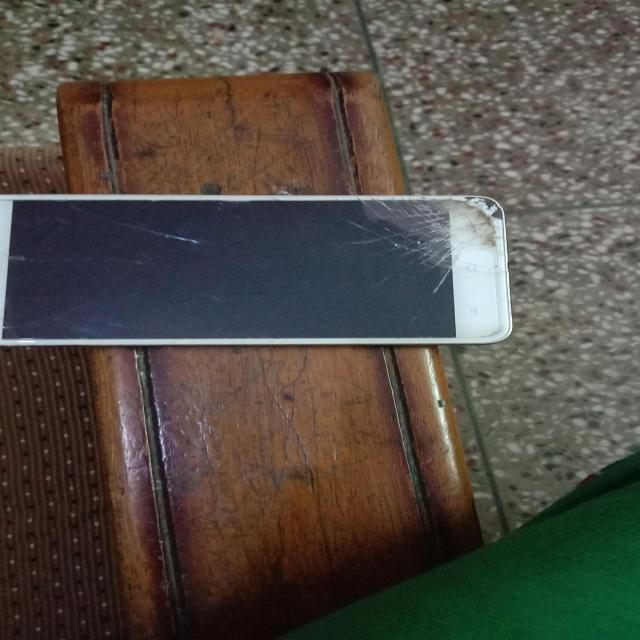mobile: (0, 163, 552, 389)
